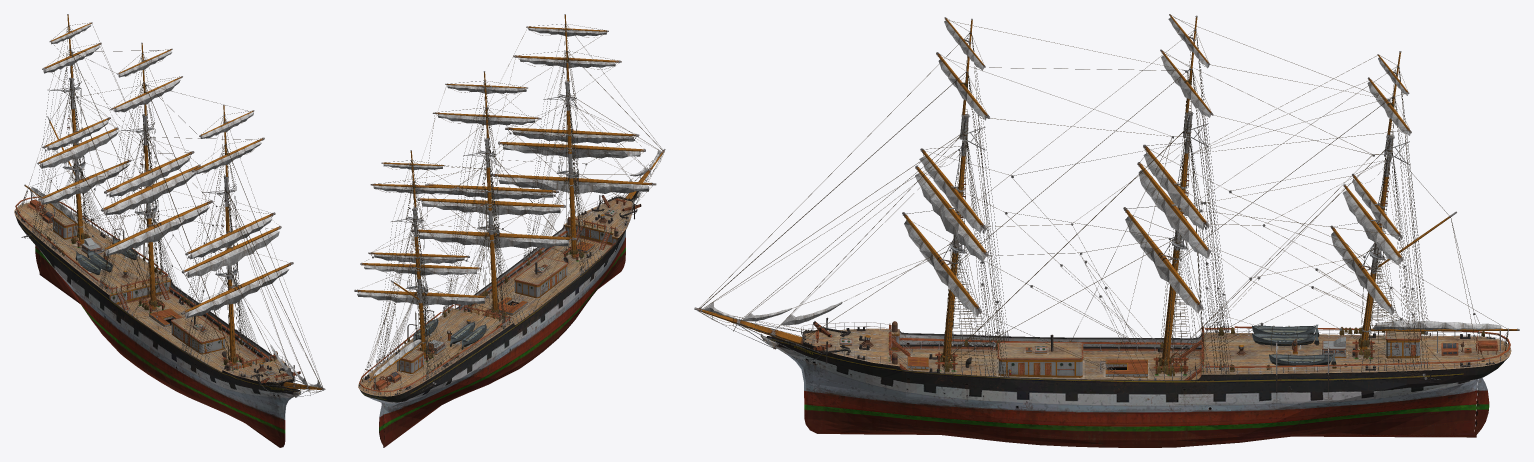
Rendered from SailingBarque.obj.
3 views of the same model, side by side, from view 1: azimuth 30°, elevation 25°; view 2: azimuth 150°, elevation 25°; view 3: azimuth 270°, elevation 25° (orthographic). The views are drawn at different scales.
Parts seen in each view (by area): view 1: LSS039Shape; view 2: LSS039Shape; view 3: LSS039Shape.
Part boxes in pixels (box(x1,y1,x2,y2)): LSS039Shape: box(14, 14, 325, 447); LSS039Shape: box(354, 14, 665, 447); LSS039Shape: box(694, 14, 1519, 447).
Size of the model in its own units: 0.2548 by 0.5337 by 0.947.
